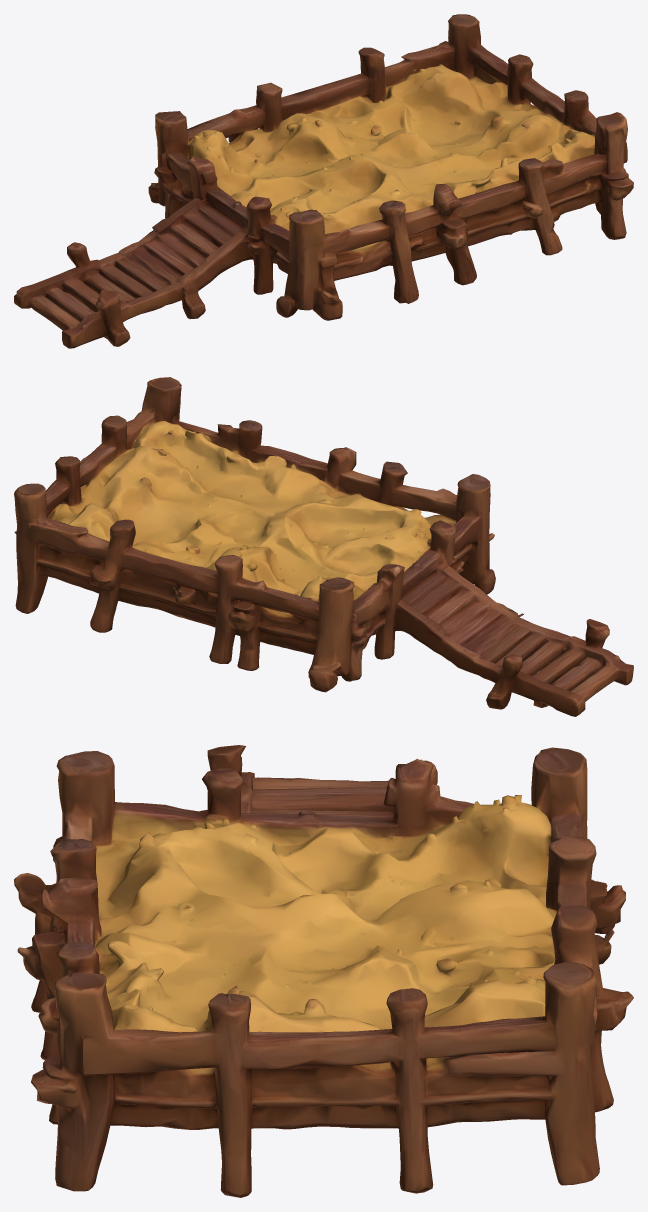
File: pier.glb
3 views of the same model, one above another, from view 1: azimuth 30°, elevation 25°; view 2: azimuth 150°, elevation 25°; view 3: azimuth 270°, elevation 25° (orthographic). The views are drawn at different scales.
Parts seen in each view (by area): view 1: tripo_node_d4dd6384-9b86-4ec4-8383-25c2adefb5aa; view 2: tripo_node_d4dd6384-9b86-4ec4-8383-25c2adefb5aa; view 3: tripo_node_d4dd6384-9b86-4ec4-8383-25c2adefb5aa.
Part boxes in pixels (box(x1,y1,x2,y2)): tripo_node_d4dd6384-9b86-4ec4-8383-25c2adefb5aa: box(14, 14, 633, 348); tripo_node_d4dd6384-9b86-4ec4-8383-25c2adefb5aa: box(14, 377, 633, 716); tripo_node_d4dd6384-9b86-4ec4-8383-25c2adefb5aa: box(14, 745, 633, 1197).
Bounding box in the file's own units: 1 × 0.26 × 0.5881.
1 material, 1 textured.
